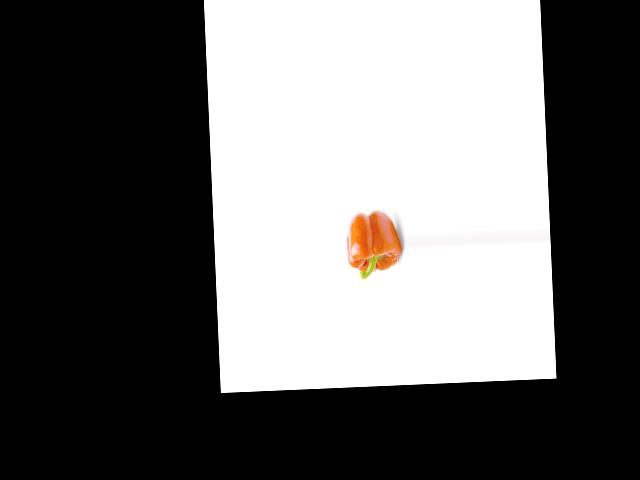bell_pepper: (345, 203, 402, 284)
